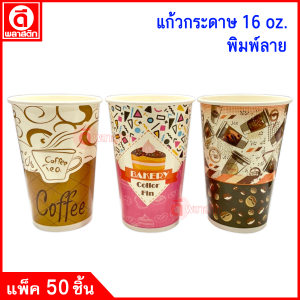PaperCup: (104, 92, 195, 233)
